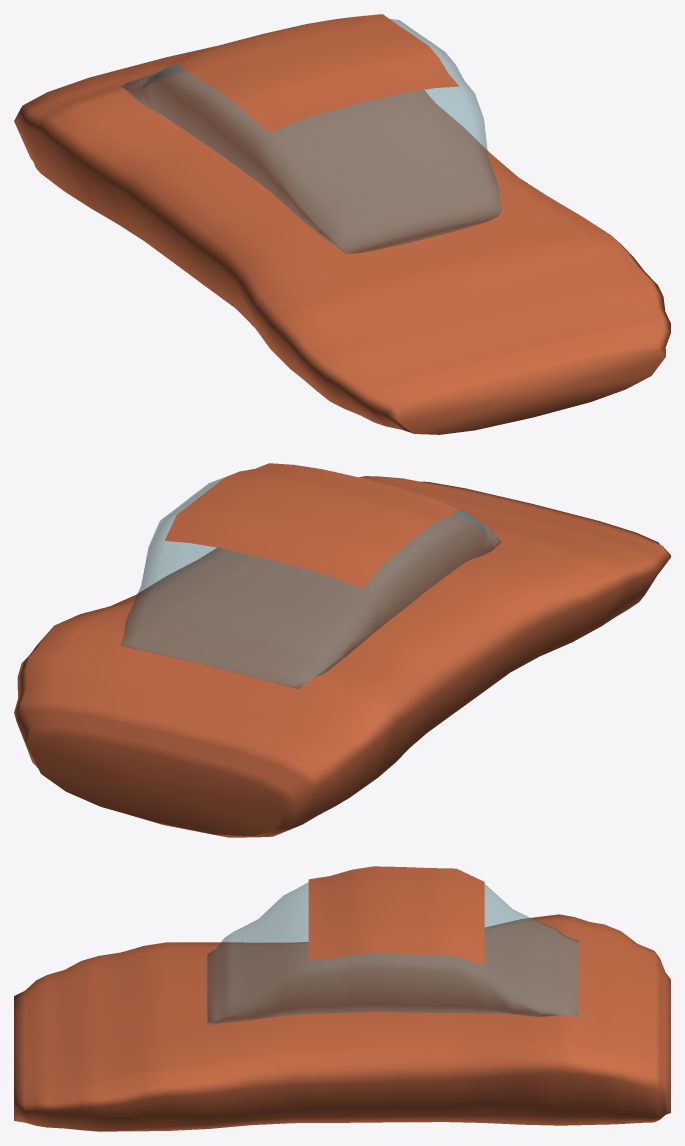
File: river-roadster.glb
3 renders of one model, top to bottom at view 1: azimuth 30°, elevation 25°; view 2: azimuth 150°, elevation 25°; view 3: azimuth 270°, elevation 25°, orthographic. The views are drawn at different scales.
Parts seen in each view (by area): view 1: RoadsterPaint, RoadsterGlass, RoadsterRoof; view 2: RoadsterPaint, RoadsterGlass, RoadsterRoof; view 3: RoadsterPaint, RoadsterGlass, RoadsterRoof.
Part boxes in pixels (left/top/right/bottom): RoadsterPaint: left=14, top=45, right=670, bottom=434; RoadsterGlass: left=120, top=19, right=501, bottom=253; RoadsterRoof: left=165, top=14, right=459, bottom=132; RoadsterPaint: left=14, top=476, right=670, bottom=837; RoadsterGlass: left=120, top=477, right=501, bottom=688; RoadsterRoof: left=165, top=463, right=459, bottom=588; RoadsterPaint: left=14, top=914, right=670, bottom=1131; RoadsterGlass: left=207, top=882, right=578, bottom=1024; RoadsterRoof: left=308, top=866, right=484, bottom=966.
Bounding box in the file's own units: 2.36 × 1.38 × 4.35.
